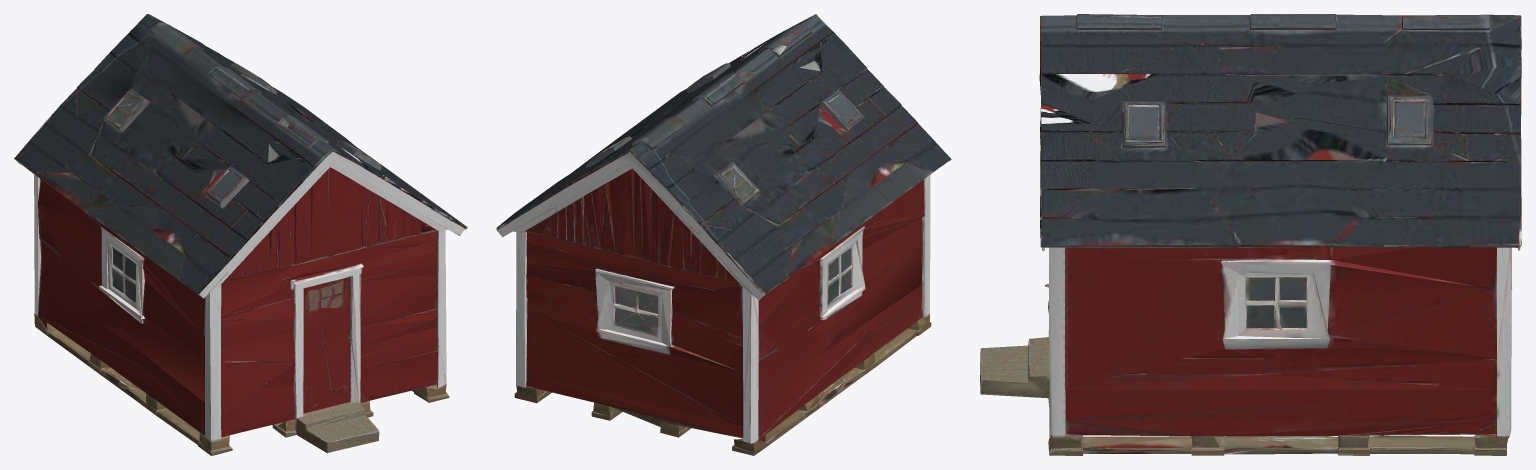
Rendered from rorbu.glb.
3 views of the same model, side by side, from view 1: azimuth 30°, elevation 25°; view 2: azimuth 150°, elevation 25°; view 3: azimuth 270°, elevation 25° (orthographic). The views are drawn at different scales.
Parts seen in each view (by area): view 1: mesh_node; view 2: mesh_node; view 3: mesh_node.
Boxes of the visible parts, x1,y1,x2,y2 form: mesh_node: (14,14,467,455); mesh_node: (496,14,951,455); mesh_node: (980,14,1521,455).
Bounding box in the file's own units: 1.43 × 1.41 × 1.9.
Materials: 1 (1 with a texture image).
